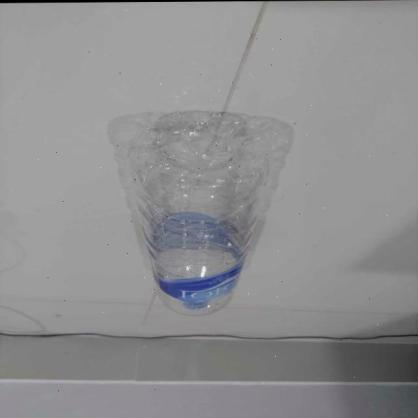bottle: (132, 112, 272, 320)
label: (148, 257, 254, 311)
